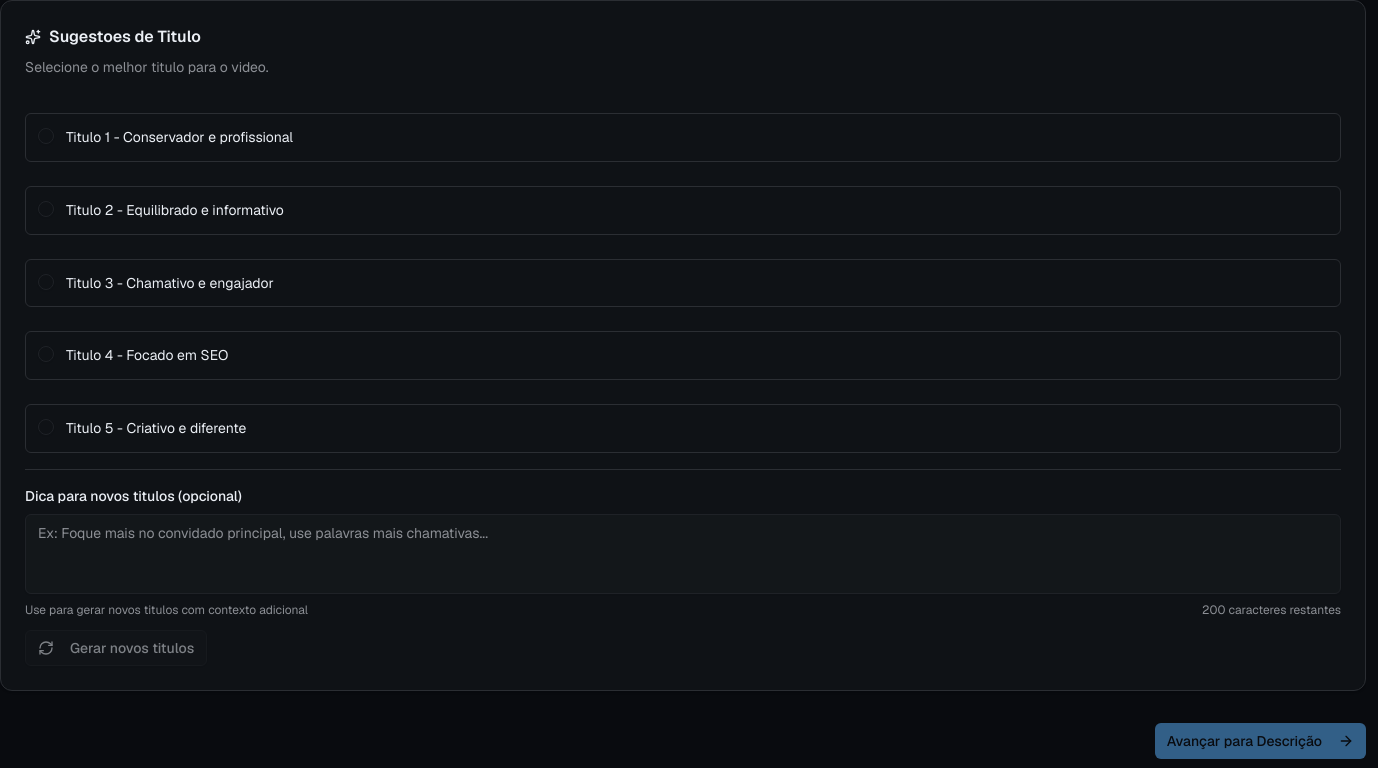
Test: Phase5Title › Additional context input › updates character count as user types
Replace the text in the text box with placeholder "Foque mais no convidado principal" with "12345" at (683, 554), box [25, 514, 1341, 594]
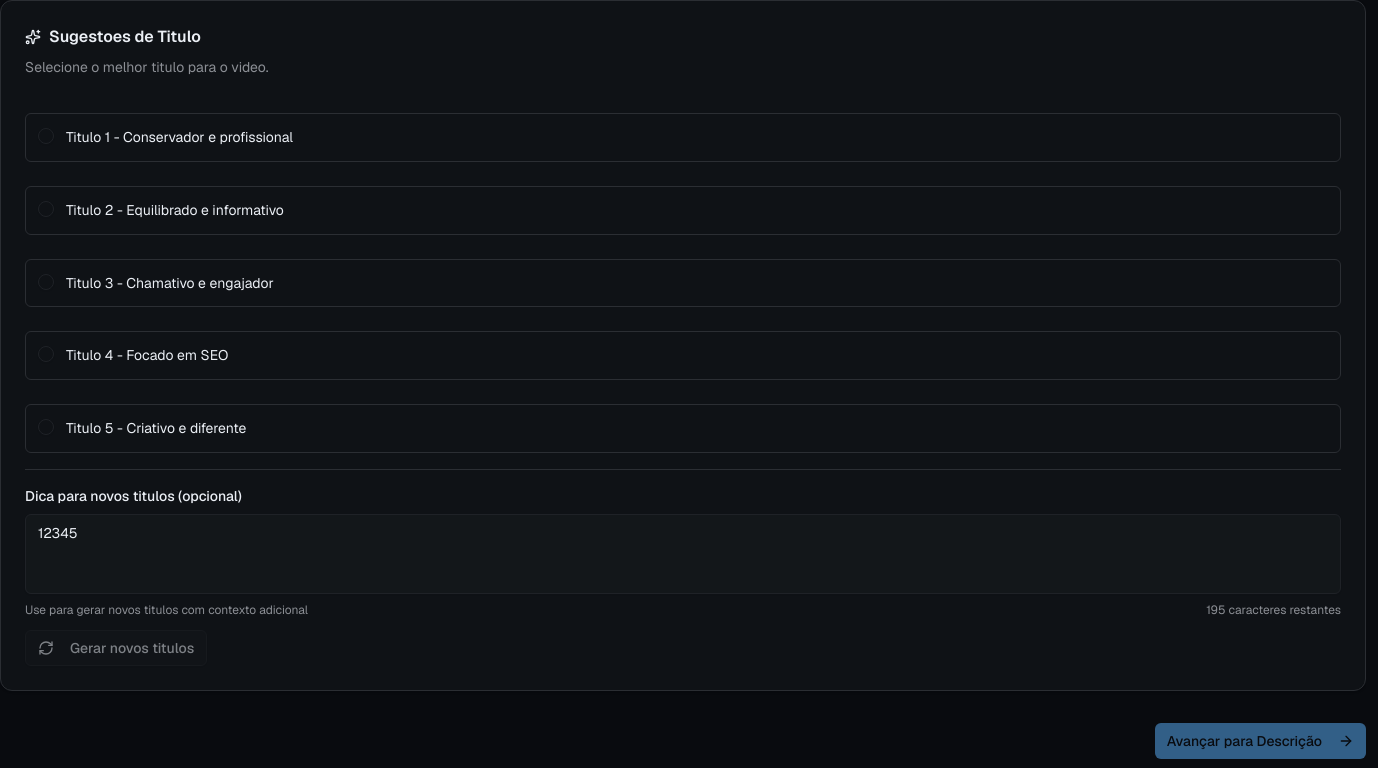
Now the text "195 caracteres restantes" is shown, box [1206, 602, 1341, 618]
